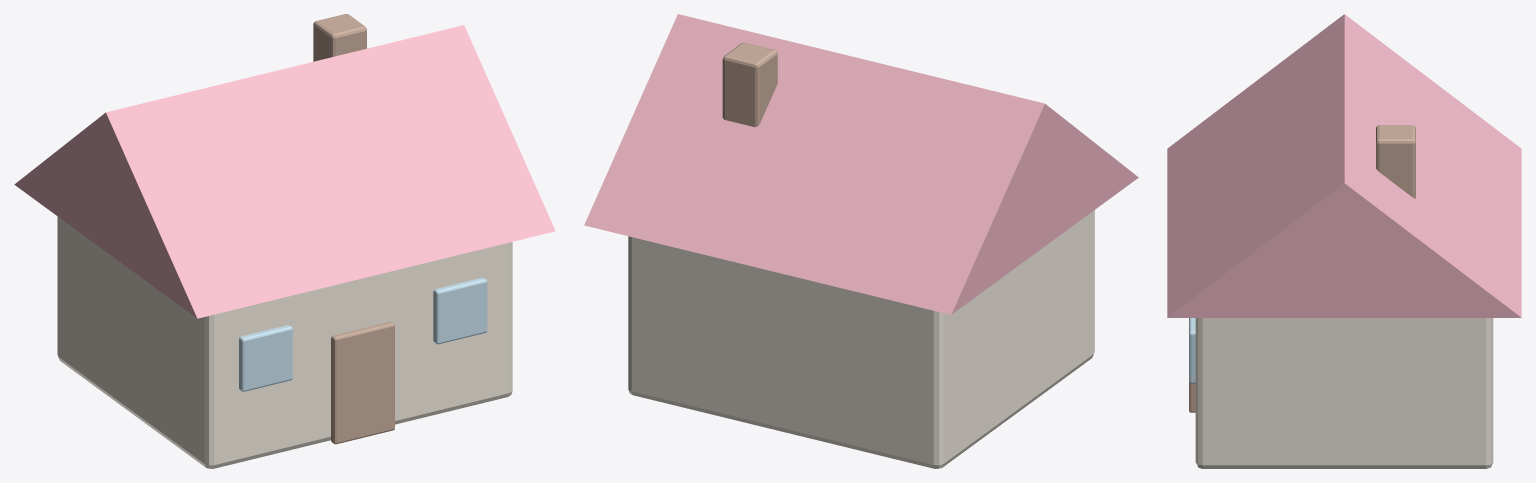
File: domek.glb
3 views of the same model, side by side, from view 1: azimuth 30°, elevation 25°; view 2: azimuth 150°, elevation 25°; view 3: azimuth 270°, elevation 25° (orthographic). The views are drawn at different scales.
Parts seen in each view (by area): view 1: strecha, telo, dvere, okno_p, okno_l, komin; view 2: strecha, telo, komin; view 3: strecha, telo, komin, okno_p.
Part boxes in pixels (x1,y1,x2,y2): strecha: [14, 25, 555, 318]; telo: [57, 216, 512, 468]; dvere: [331, 321, 394, 444]; okno_p: [433, 277, 487, 344]; okno_l: [239, 325, 292, 391]; komin: [313, 14, 366, 61]; strecha: [584, 14, 1138, 314]; telo: [628, 210, 1094, 468]; komin: [722, 42, 777, 127]; strecha: [1167, 14, 1521, 317]; telo: [1195, 318, 1493, 468]; komin: [1376, 125, 1415, 198]; okno_p: [1189, 318, 1195, 383].
Bounding box in the file's own units: 3.5 × 2.95 × 3.1.
